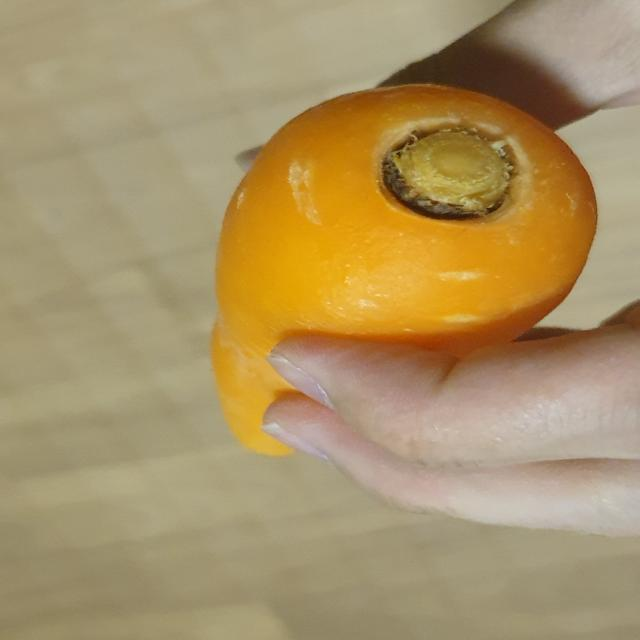carrot: (202, 72, 603, 465)
